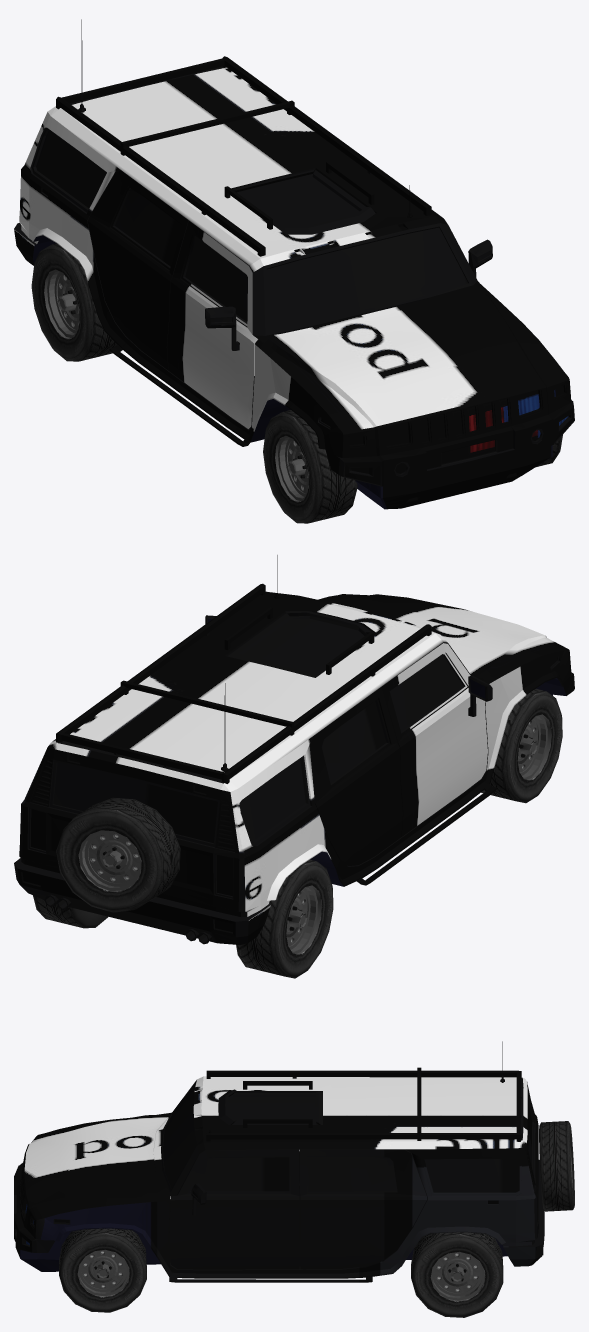
The model's file is PoliceCar6.FBX.
The picture shows the model from 3 angles, top to bottom: view 1: azimuth 30°, elevation 25°; view 2: azimuth 150°, elevation 25°; view 3: azimuth 270°, elevation 25°; orthographic projection. The views are drawn at different scales.
Visible parts, largest first — view 1: Body, FR, BR; view 2: Body, BackWheel, BR, FR, BL; view 3: Body, BL, FL, BackWheel.
Part boxes in pixels (x1=…): Body: x1=14, y1=19, x2=574, y2=509; FR: x1=263, y1=410, x2=357, y2=523; BR: x1=31, y1=243, x2=117, y2=361; Body: x1=14, y1=555, x2=574, y2=944; BackWheel: x1=56, y1=797, x2=180, y2=912; BR: x1=236, y1=859, x2=333, y2=978; FR: x1=481, y1=688, x2=562, y2=803; BL: x1=33, y1=895, x2=108, y2=928; Body: x1=14, y1=1041, x2=544, y2=1282; BL: x1=411, y1=1232, x2=503, y2=1317; FL: x1=59, y1=1228, x2=146, y2=1312; BackWheel: x1=539, y1=1121, x2=574, y2=1211.
Bounding box in the file's own units: 20.33 × 21.02 × 44.82.
